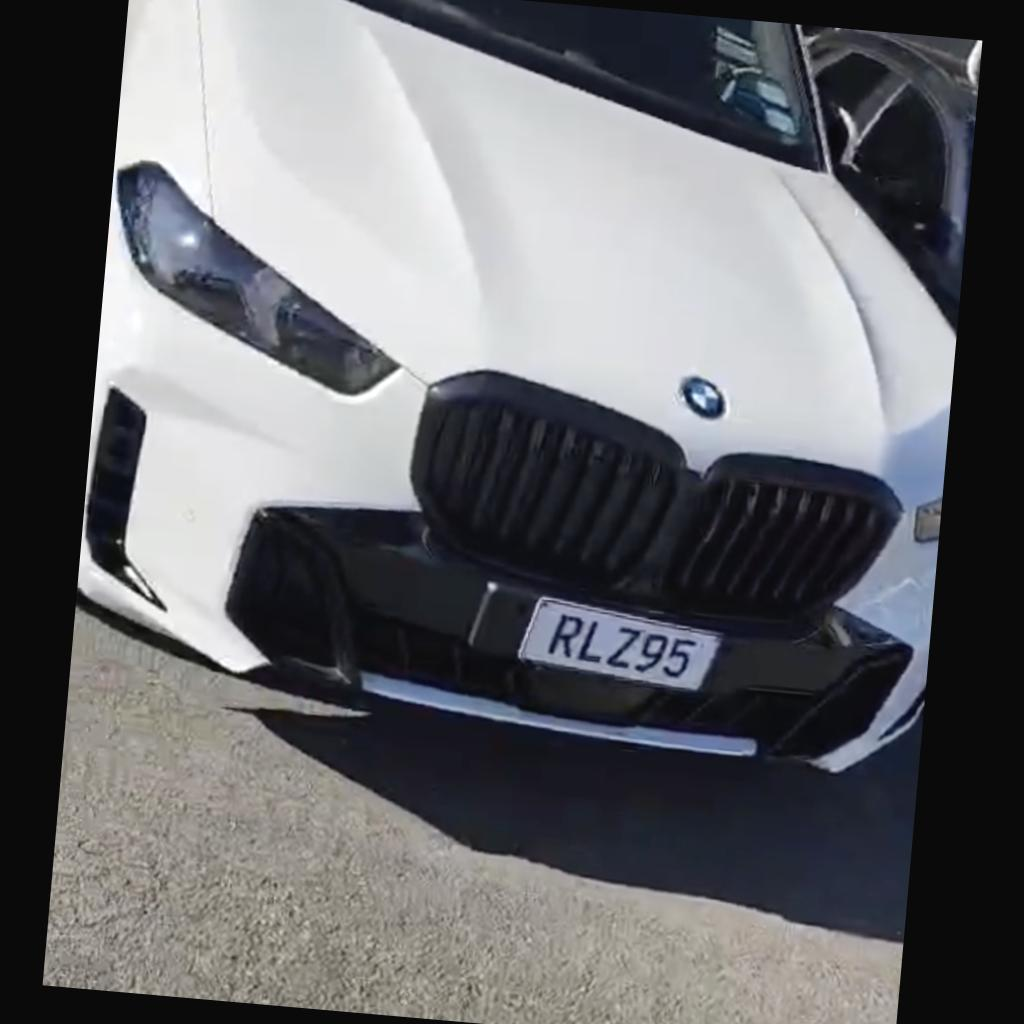Number-Plates: (495, 575, 738, 715)
